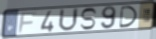4: (39, 9, 56, 33)
9: (99, 6, 118, 30)
D: (119, 5, 139, 29)
F: (17, 11, 39, 34)
S: (79, 7, 99, 31)
U: (57, 8, 80, 33)
